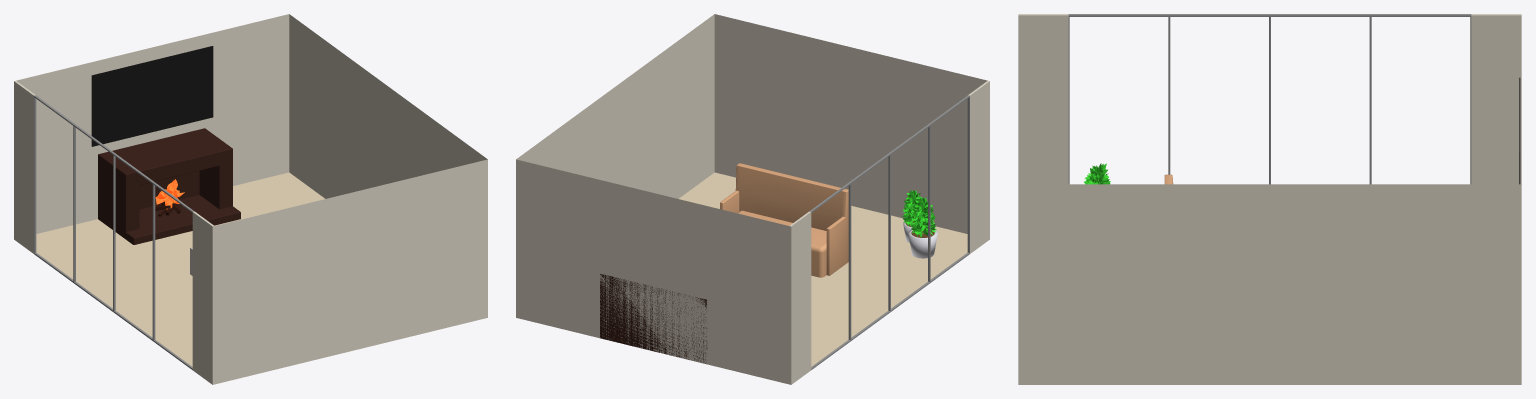
Rendered from room.glb.
3 renders of one model, left to right at view 1: azimuth 30°, elevation 25°; view 2: azimuth 150°, elevation 25°; view 3: azimuth 270°, elevation 25°, orthographic. The views are drawn at different scales.
Parts seen in each view (by area): view 1: Wall, Floor, Furnace, TV, Filing, Window_Frame.001; view 2: Wall, Floor, Filing, SofaRest, Furnace, Window_Frame.001, SofaChair, leaves.001, Pot.001; view 3: Wall, Filing, Window_Frame.001.
Part boxes in pixels (x1,y1,x2,y2): Wall: [16, 14, 487, 384]; Floor: [36, 172, 324, 366]; Furnace: [98, 128, 240, 244]; TV: [91, 46, 213, 146]; Filing: [14, 80, 214, 384]; Window_Frame.001: [34, 95, 194, 369]; Wall: [516, 14, 987, 384]; Floor: [679, 172, 967, 366]; Filing: [790, 80, 989, 384]; SofaRest: [720, 163, 848, 275]; Furnace: [600, 274, 707, 363]; Window_Frame.001: [809, 95, 969, 369]; SofaChair: [737, 210, 826, 277]; leaves.001: [910, 197, 936, 237]; Pot.001: [908, 229, 937, 258]; Wall: [1018, 184, 1521, 384]; Filing: [1018, 14, 1521, 184]; Window_Frame.001: [1068, 14, 1471, 184].
Size of the model in its own units: 4 by 2.2 by 5.
